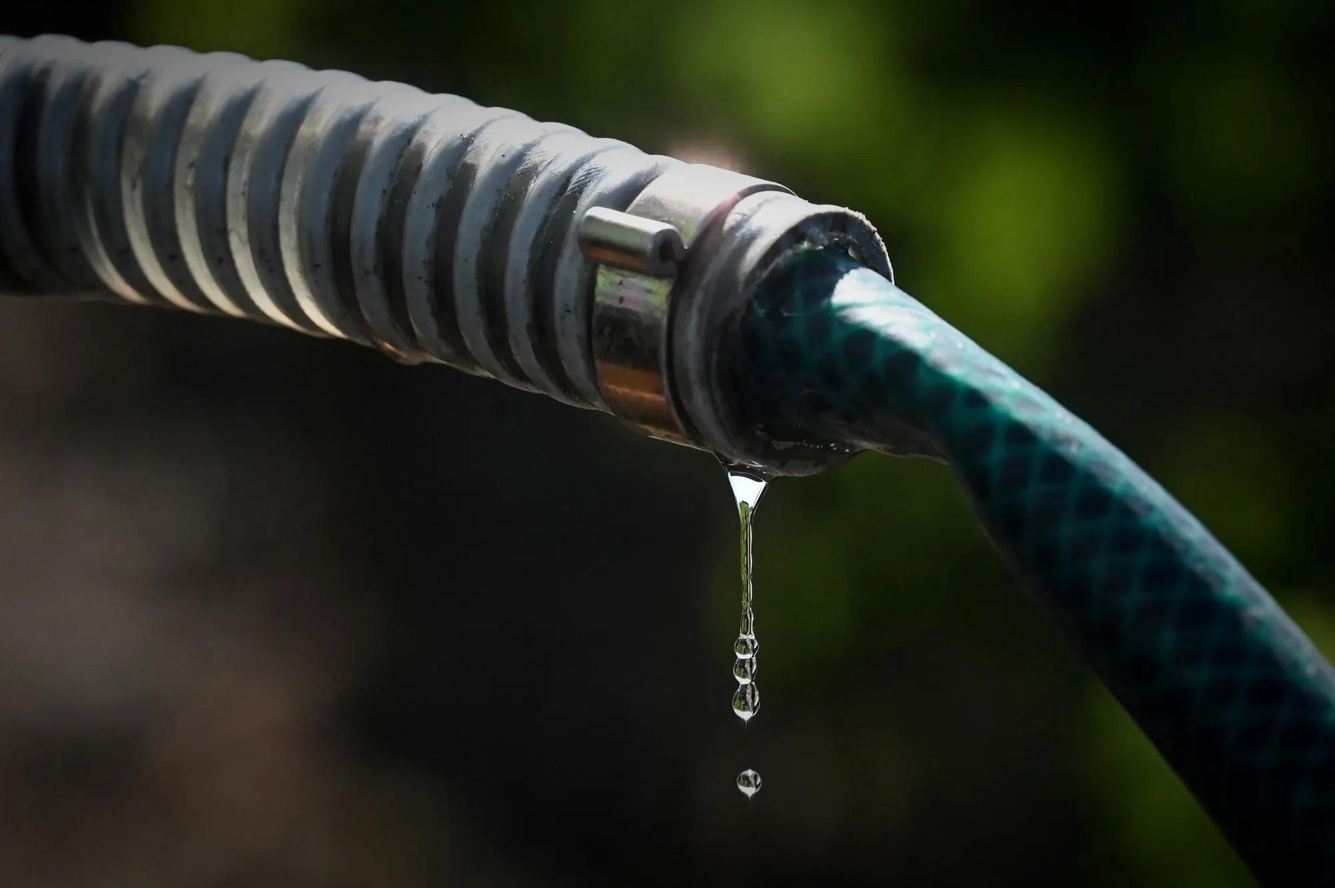water drop: (727, 474, 764, 721), (736, 763, 763, 799)
